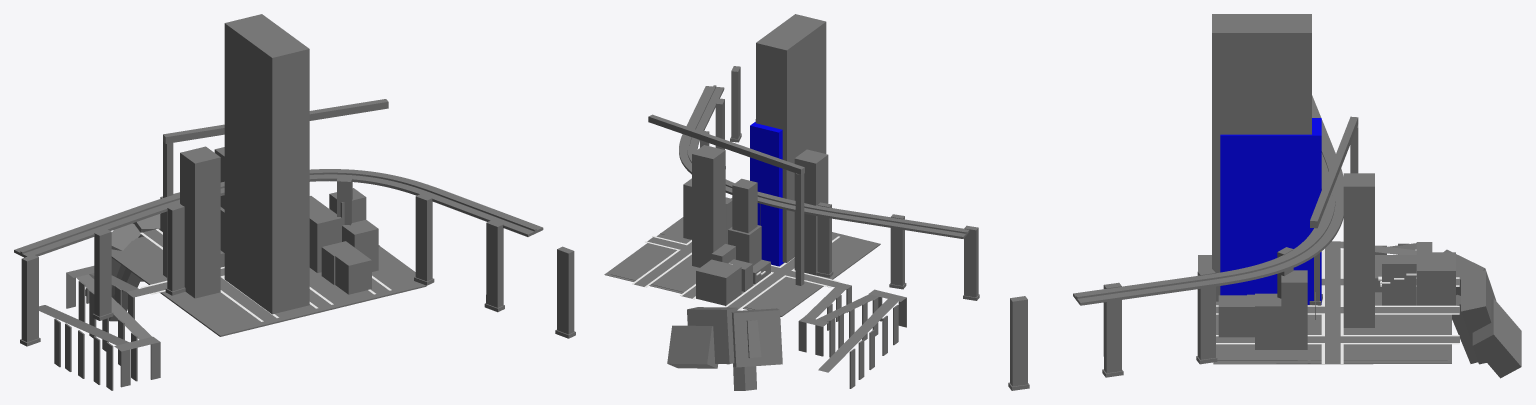
Rendered from Cidade.fbx.
The picture shows the model from 3 angles, left to right: view 1: azimuth 30°, elevation 25°; view 2: azimuth 150°, elevation 25°; view 3: azimuth 270°, elevation 25°; orthographic projection. The views are drawn at different scales.
Parts seen in each view (by area): view 1: teste_arranha_ceu_, plano_, predios_grande__100m___1_, guindaste__1_, guindaste, Plane__3_, Cube__1__1, Plane__11_, Plane__8_; view 2: teste_arranha_ceu_, plano_, predios_grande__100m_, Arranha_ceu, predios_grande__100m___1_, Cube__1__1, Cube__5__1, predios_pequeno__20m___1_, Cube__4__1, guindaste__1_, predios_medios__40m_, guindaste (+11 smaller); view 3: teste_arranha_ceu_, Arranha_ceu, plano_, predios_grande__100m_, Cube__5__1, predios_pequeno__20m___1_, Cube__4__1, predios_pequeno__30m_, Plane, Plane__2_, guindaste__1_, Plane__1_ (+2 smaller).
Boxes of the visible parts, x1,y1,x2,y2 form: teste_arranha_ceu_: (14, 14, 575, 346); plano_: (111, 200, 426, 336); predios_grande__100m___1_: (180, 146, 220, 298); guindaste__1_: (163, 99, 388, 143); guindaste: (163, 141, 173, 277); Plane__3_: (143, 229, 276, 321); Cube__1__1: (85, 223, 142, 296); Plane__11_: (39, 305, 128, 345); Plane__8_: (76, 274, 151, 339); teste_arranha_ceu_: (604, 14, 979, 309); plano_: (611, 221, 880, 316); predios_grande__100m_: (692, 145, 725, 267); Arranha_ceu: (750, 122, 784, 266); predios_grande__100m___1_: (794, 149, 828, 275); Cube__1__1: (731, 308, 782, 367); Cube__5__1: (667, 325, 718, 368); predios_pequeno__20m___1_: (696, 259, 741, 305); Cube__4__1: (687, 307, 737, 364); guindaste__1_: (648, 114, 804, 174); predios_medios__40m_: (732, 178, 757, 232); guindaste: (795, 173, 804, 285); teste_arranha_ceu_: (1008, 14, 1451, 390); Arranha_ceu: (1220, 118, 1321, 304); plano_: (1198, 255, 1447, 360); predios_grande__100m_: (1343, 173, 1374, 327); Cube__5__1: (1472, 298, 1521, 378); predios_pequeno__20m___1_: (1417, 252, 1455, 305); Cube__4__1: (1461, 270, 1495, 364); predios_pequeno__30m_: (1382, 257, 1416, 305); Plane: (1325, 248, 1340, 363); Plane__2_: (1216, 336, 1459, 342); guindaste__1_: (1310, 116, 1358, 228); Plane__1_: (1216, 306, 1459, 313).
Bounding box in the file's own units: 32954 × 25722 × 32897.
